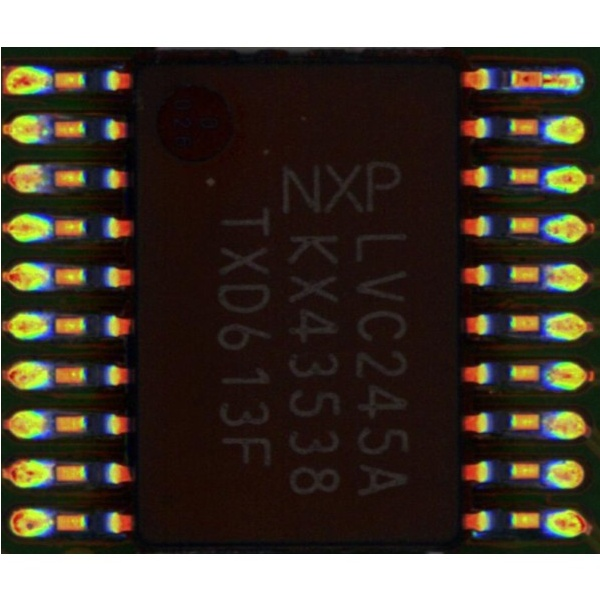Bad_podu: (528, 74, 560, 84)
